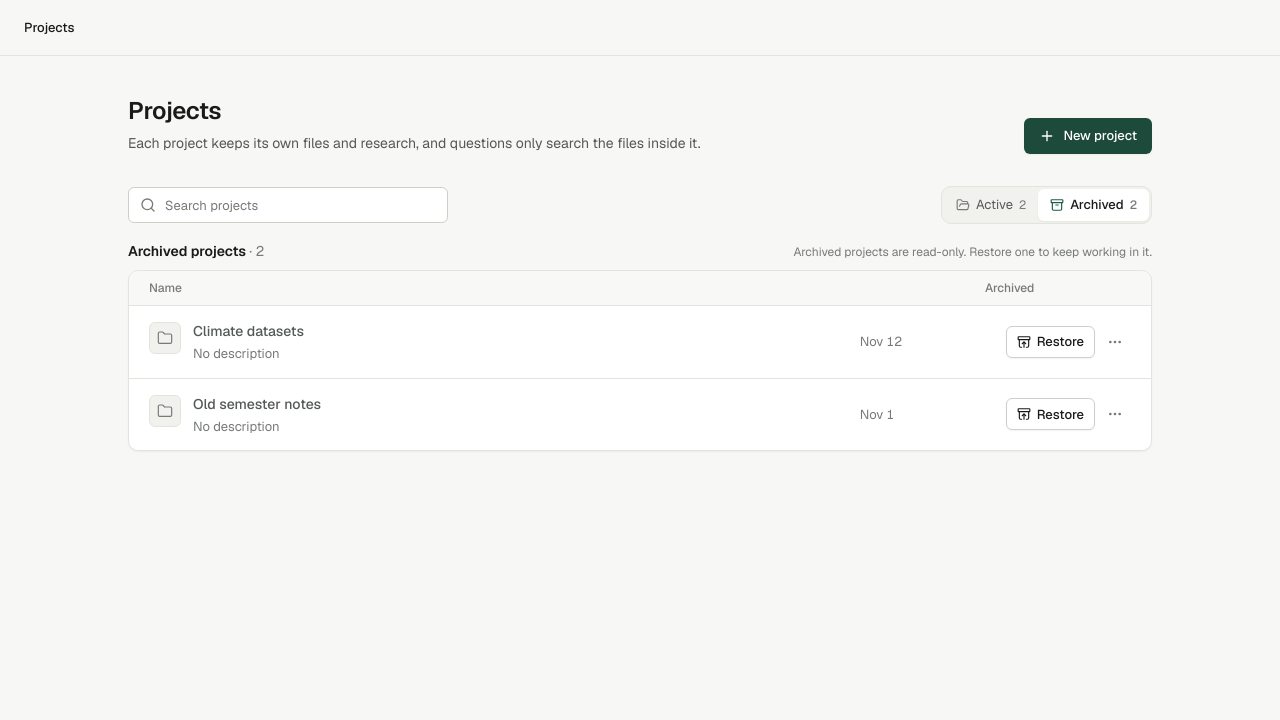
Test: Projects archive › opens the actions menu, closes it with Escape and on an outside click
Click the button named "Actions for Climate datasets" at (1115,342), box [1099,326,1131,358]
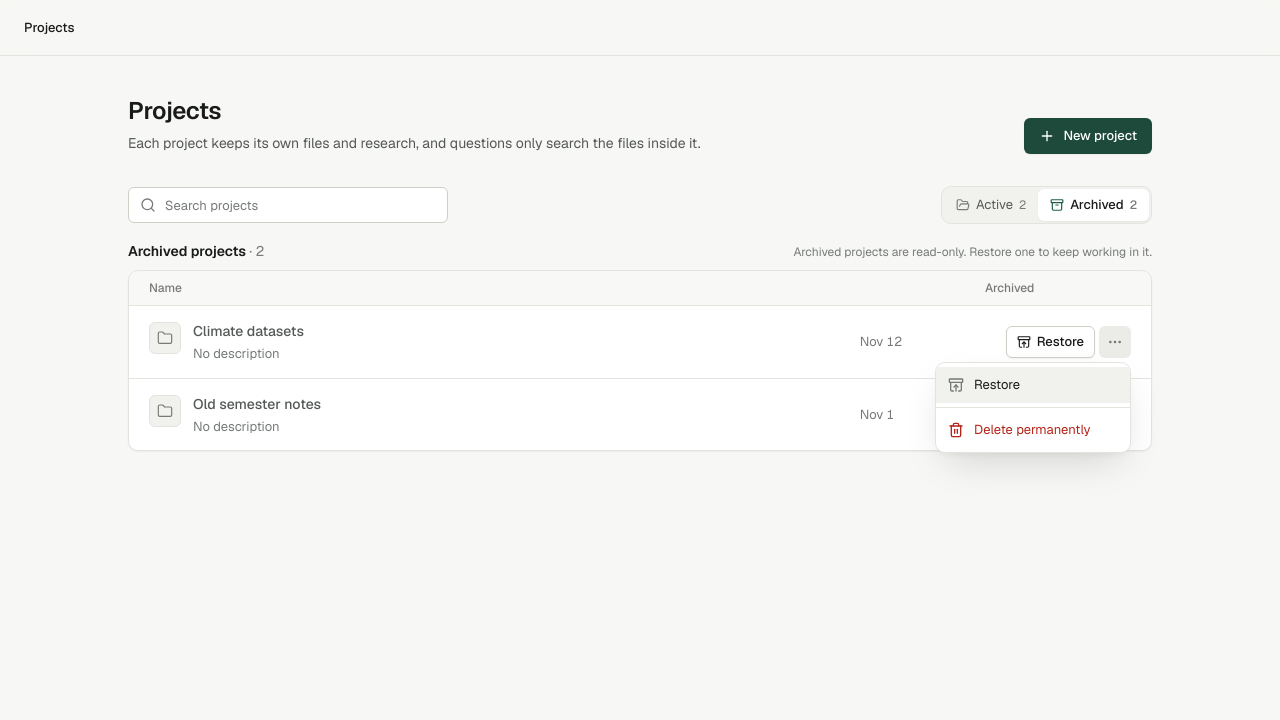
Now the menu item "Delete permanently" is shown, box [936,412,1130,448]
Press Escape
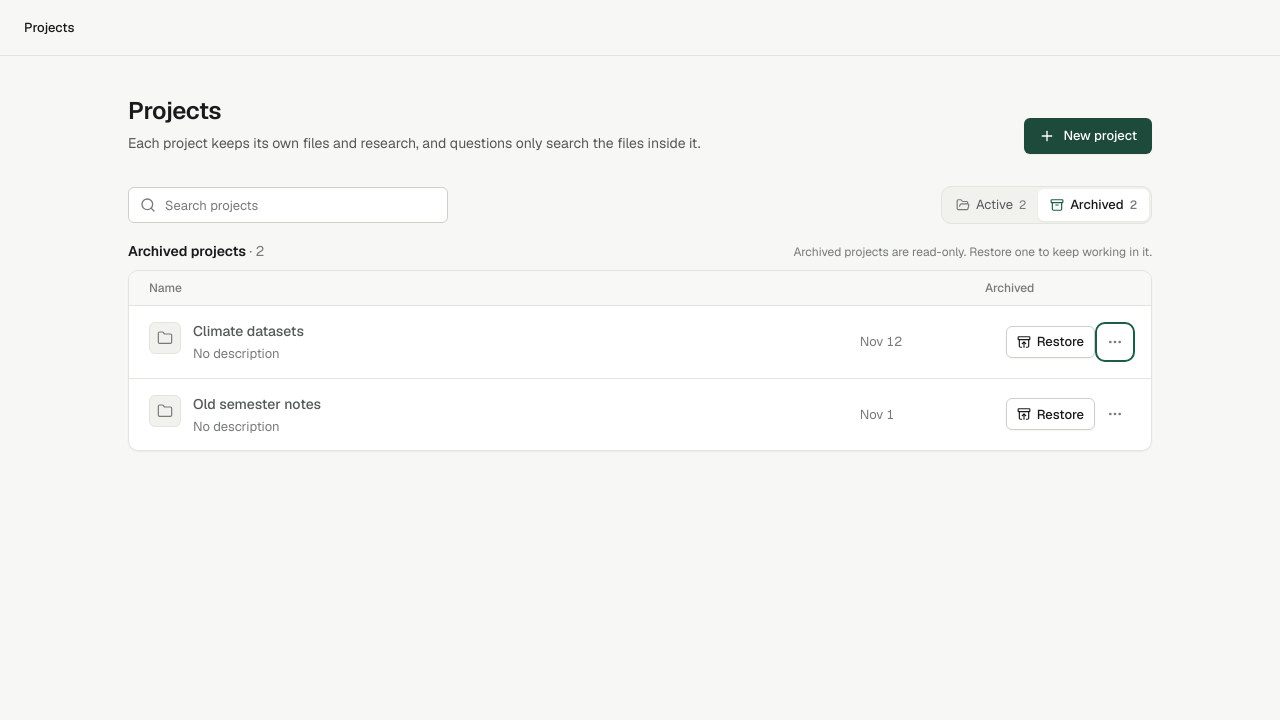
Now the menu is gone
Click the button named "Actions for Climate datasets" at (1115,342), box [1099,326,1131,358]
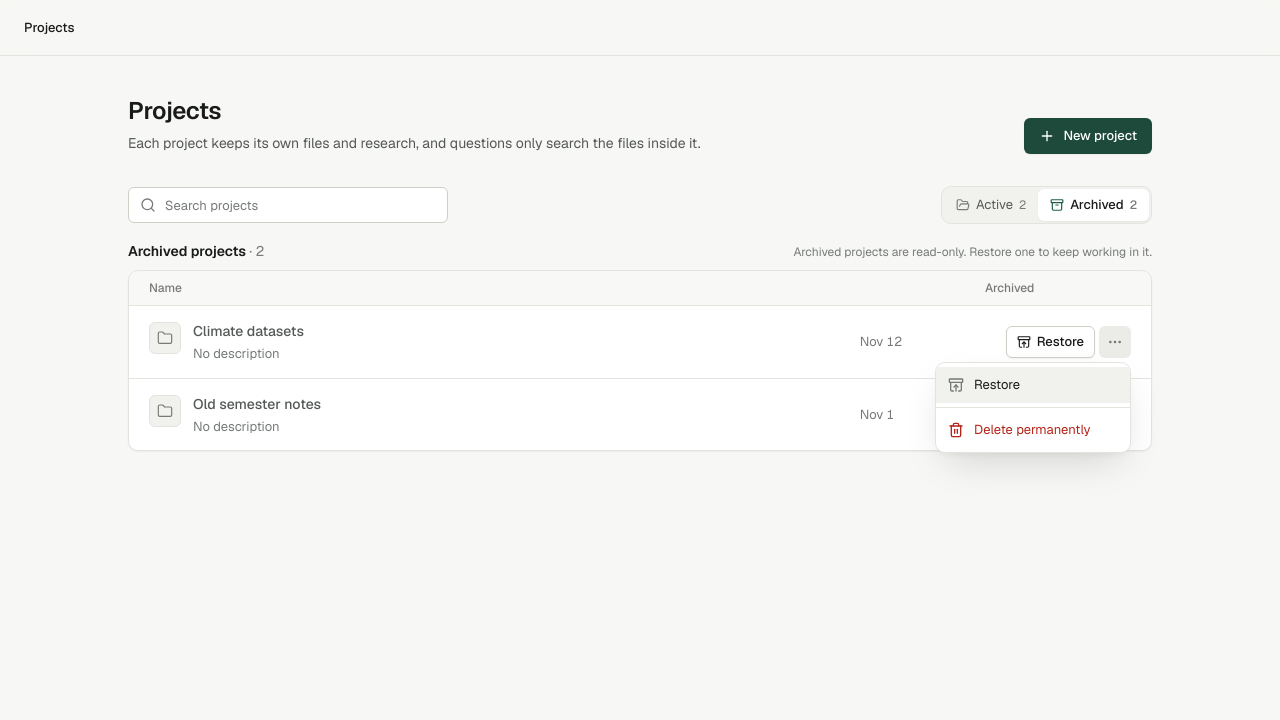
Now the menu is shown, box [935,362,1131,453]
Press the mouse on the element that starts with "Projects" at (640,360), box [0,0,1279,719]
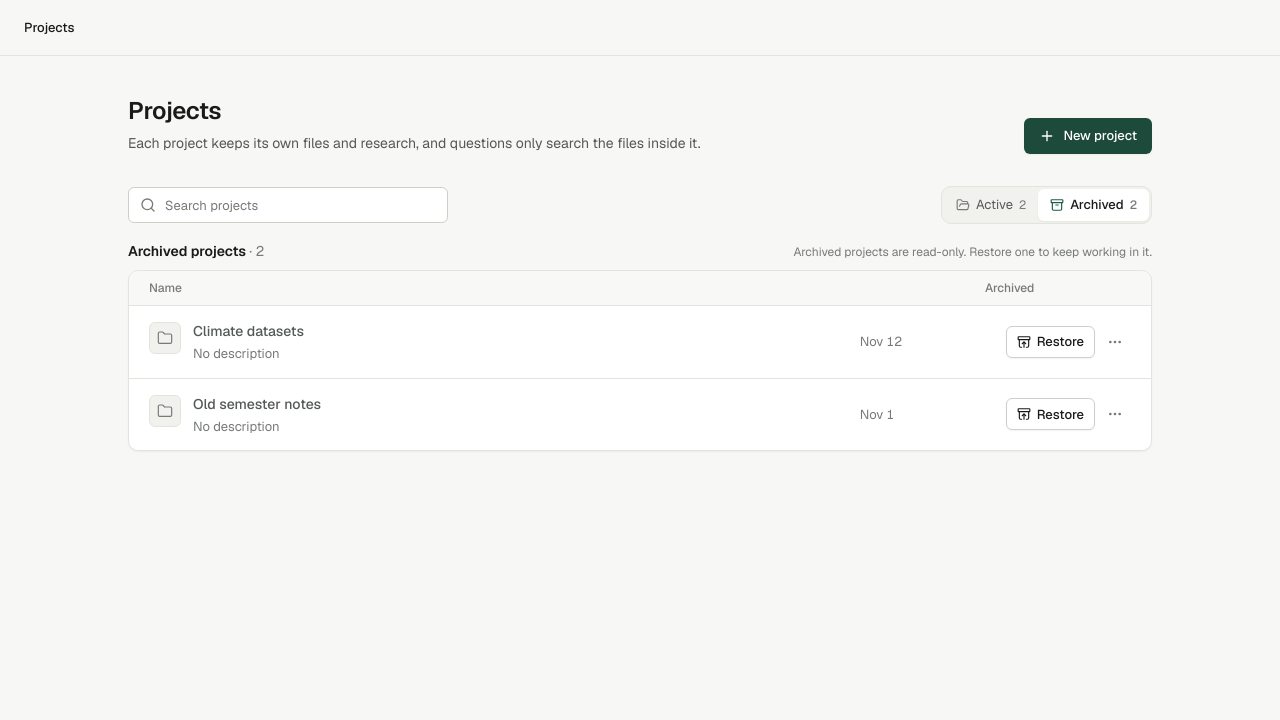
Now the menu is gone
